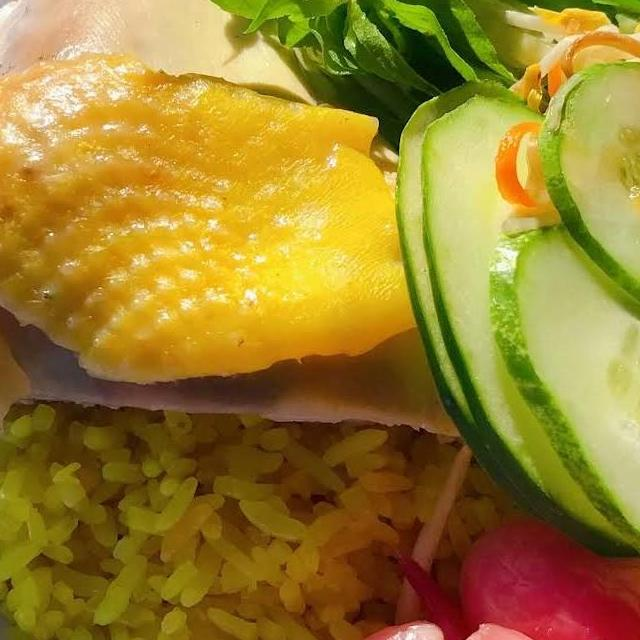com: (0, 392, 518, 640)
com ga: (0, 0, 640, 640)
rau ram: (424, 0, 640, 76)
thit ga: (0, 0, 477, 443)
